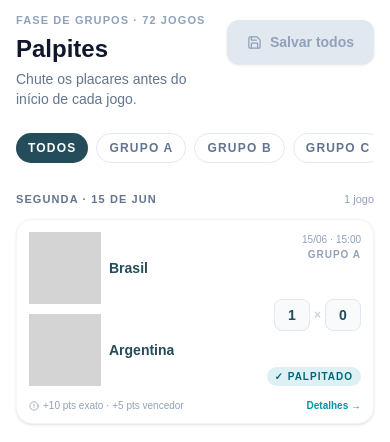
Test case: PalpitesPage › "Salvar todos" is enabled after user enters scores that differ from saved prediction
The width and height of the screenshot is (390, 442).
Expected: the button with test id "save-all-btn" is disabled, [227,20,374,64]
Note: Change home score to differ from saved
Replace the text in the number field with test id "input-home-m1" with "2". click: (292, 314)
box: [274,298,310,330]
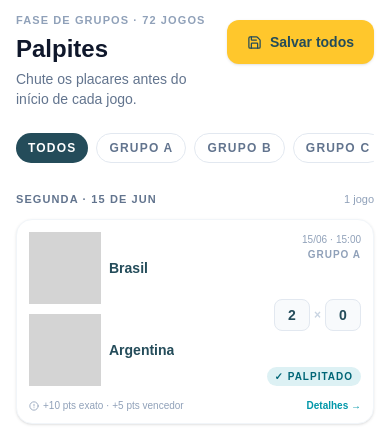
Result: the button with test id "save-all-btn" is enabled at [227,20,374,64]
